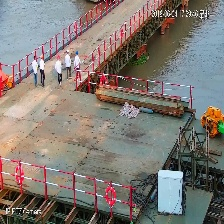helmet: (66, 49, 70, 56), (75, 50, 79, 57), (57, 55, 60, 61)
no-helmet: (33, 56, 37, 62)
no-vest: (55, 60, 61, 77), (65, 54, 71, 70), (32, 60, 38, 75), (40, 59, 45, 72), (75, 56, 80, 68)
person: (55, 55, 63, 87), (32, 55, 39, 89), (39, 54, 46, 87), (65, 49, 72, 81), (74, 49, 80, 65)
